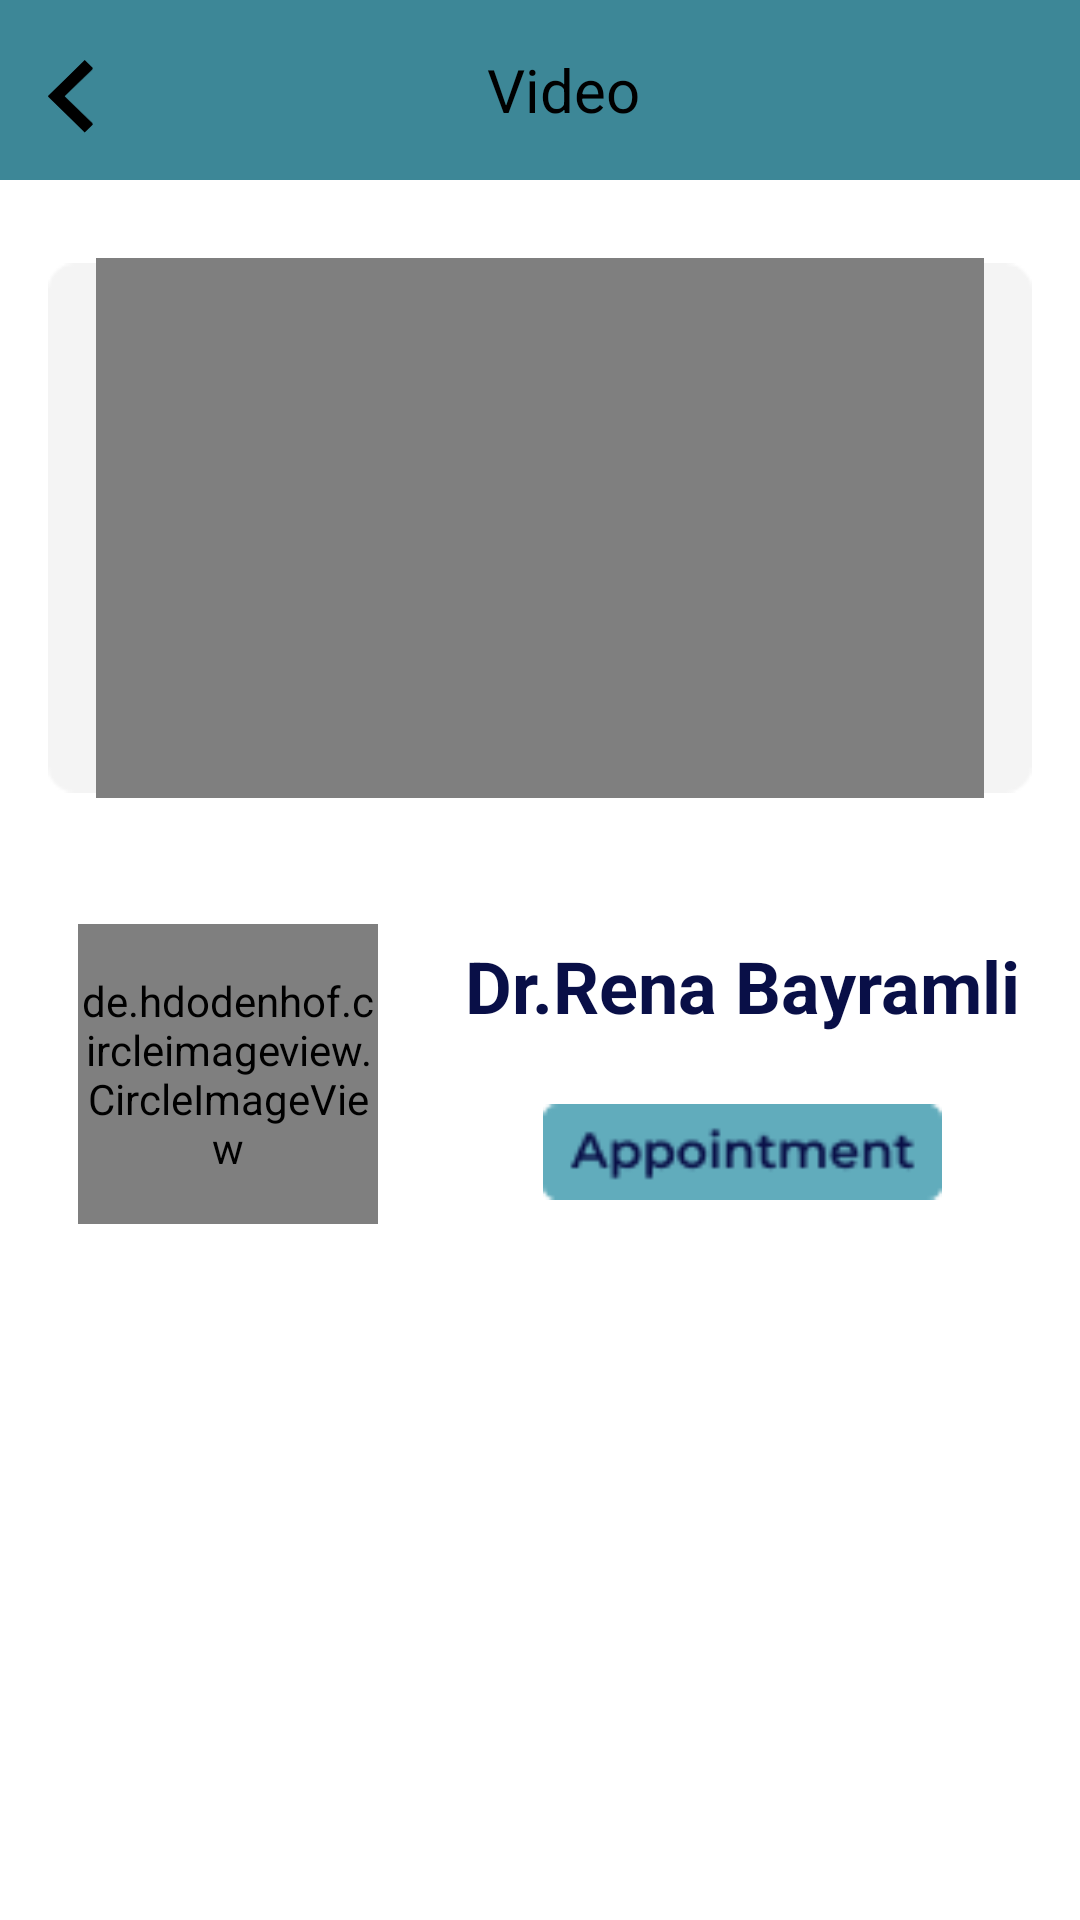

Locate icon controls on the screen. Image size 1080w x 1920h, boxes as (x1, y1, x2, y2).
back: (48, 60, 93, 133)
